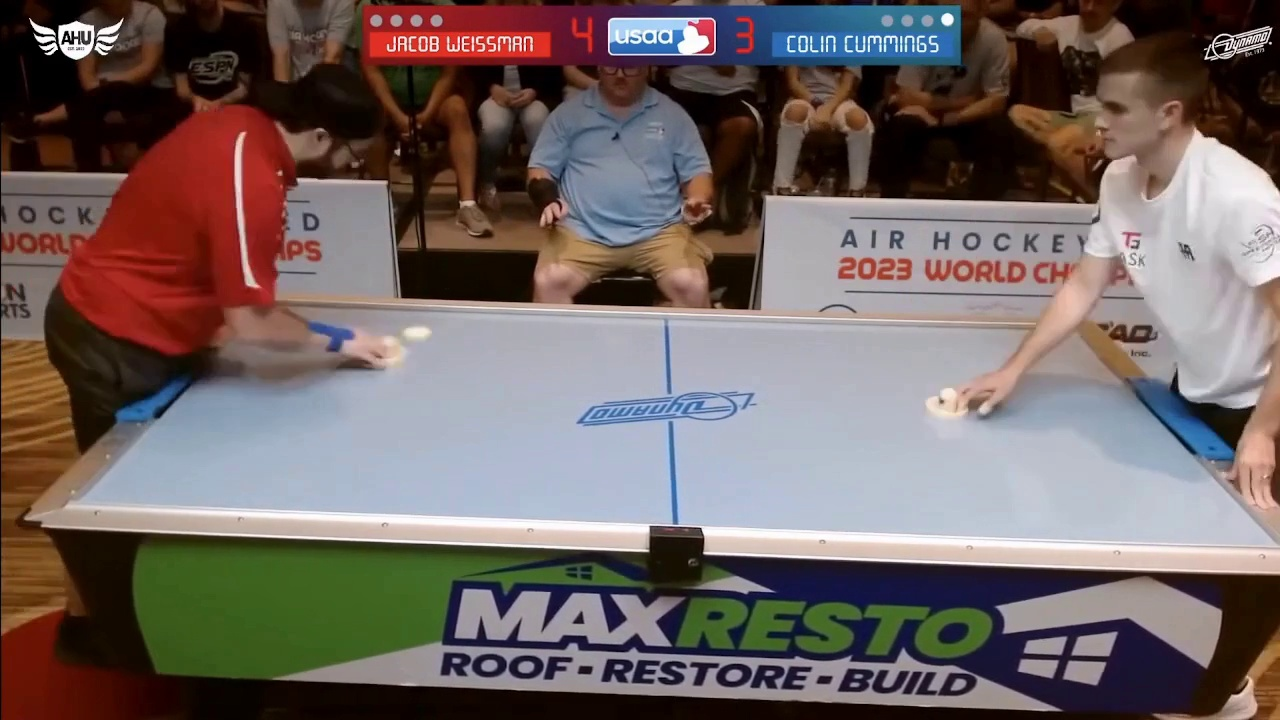player: (367, 336, 415, 370), (924, 386, 975, 417)
puck: (400, 326, 437, 340)
table: (75, 297, 1280, 553)
